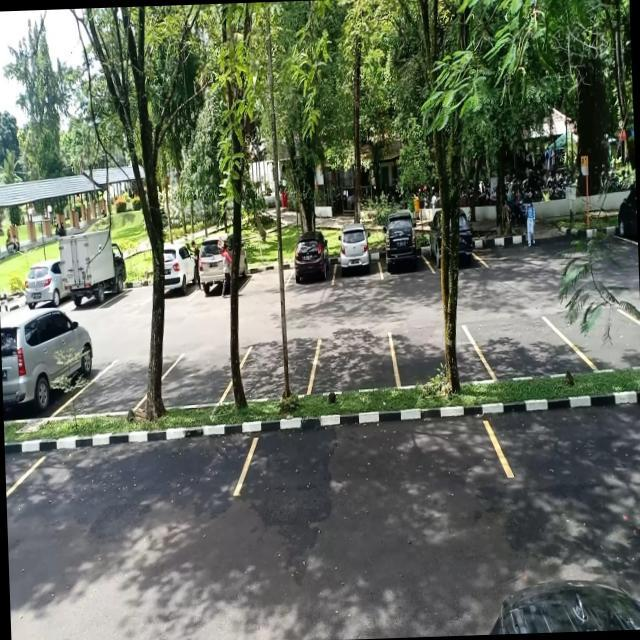empty: (241, 419, 514, 502), (22, 441, 252, 518), (480, 308, 582, 391), (392, 314, 484, 399), (307, 326, 398, 405), (73, 351, 180, 414), (227, 336, 317, 408), (154, 348, 230, 419)
occupied: (0, 320, 93, 419), (332, 232, 381, 288), (284, 243, 336, 290), (378, 229, 426, 279)
